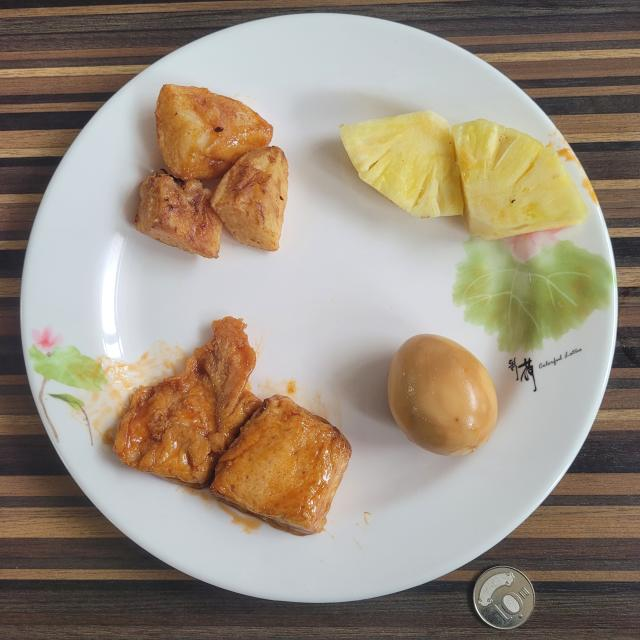coin: (472, 566, 535, 629)
creamy tofu: (114, 318, 351, 535)
fried potato: (136, 85, 289, 258)
pineapple: (340, 110, 588, 240)
soy egg: (388, 334, 498, 455)
